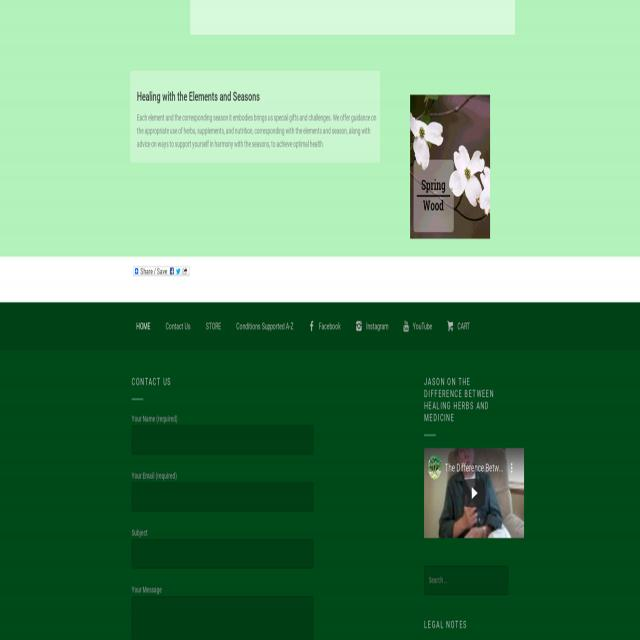button: (410, 94, 490, 238), (425, 449, 524, 539), (232, 314, 304, 339), (304, 314, 352, 339), (351, 314, 399, 339), (399, 314, 443, 339), (161, 314, 201, 339), (443, 314, 480, 339), (201, 314, 232, 339), (132, 314, 161, 339), (462, 480, 486, 508), (133, 266, 190, 276), (429, 456, 441, 479), (507, 458, 516, 478)
field: (132, 598, 313, 640), (132, 482, 313, 512), (132, 539, 313, 569), (132, 425, 313, 454), (424, 565, 508, 595)
